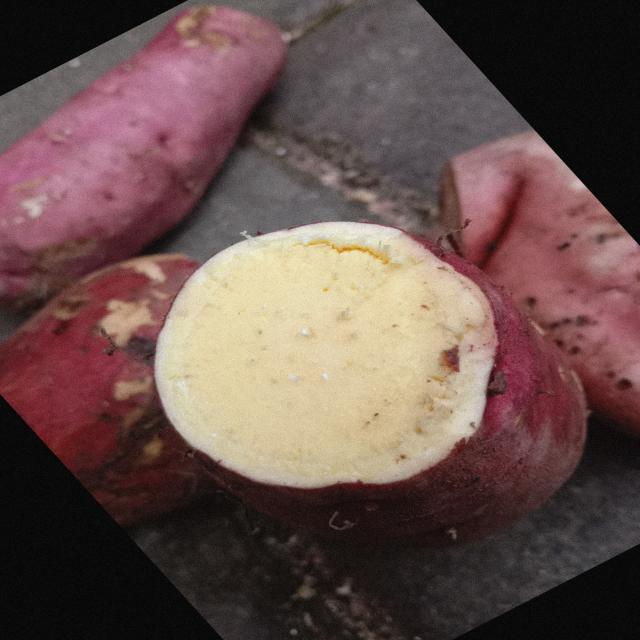Healthy Sweet Potato: (155, 222, 497, 488)
